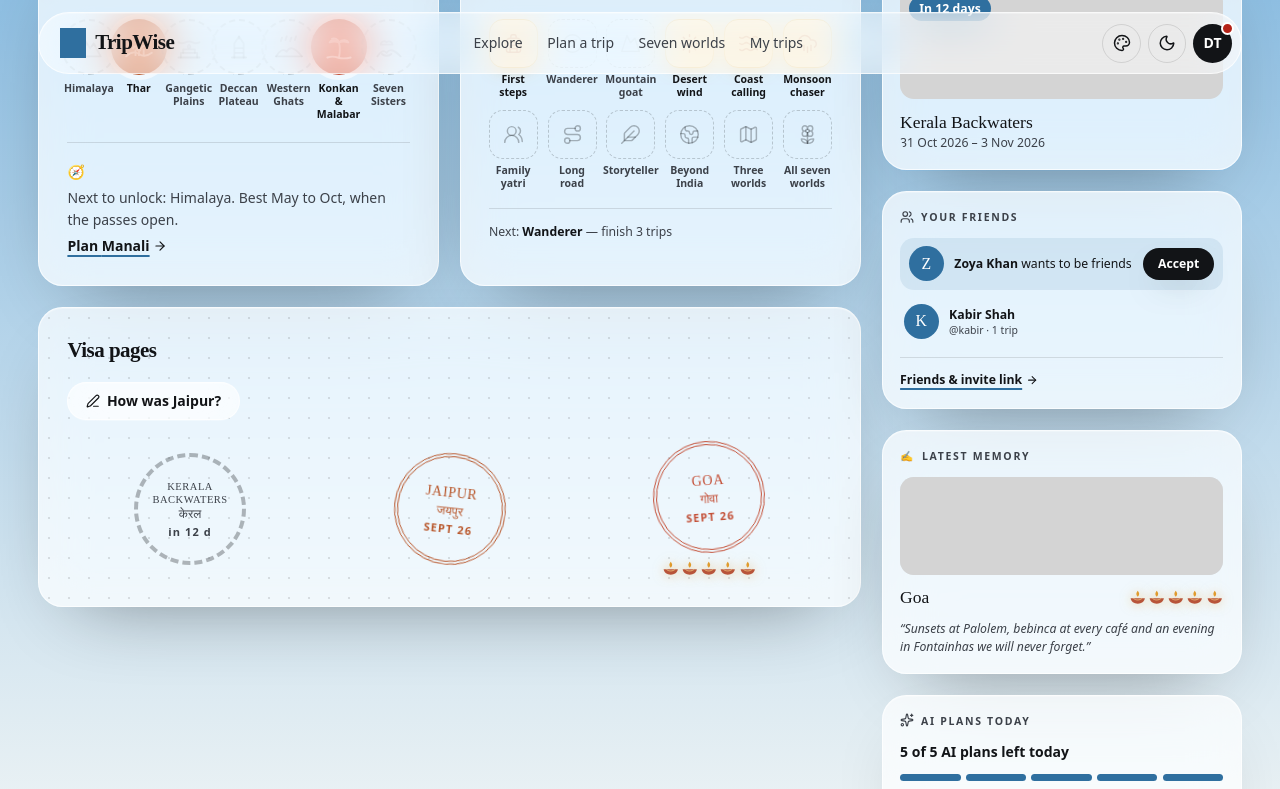
Test: PassportPage › stamps finished trips, shows the upcoming one, and opens a journal from the prompt
(page scrolled)
Expected: the button with aria-label "Goa journal" is shown, [653,441,765,553]
Expected: the link "Kerala Backwaters केरल in 12 d" is shown, [134,454,246,566]
Click the button "How was Jaipur?" at coordinates (154, 401), box [67,382,240,420]
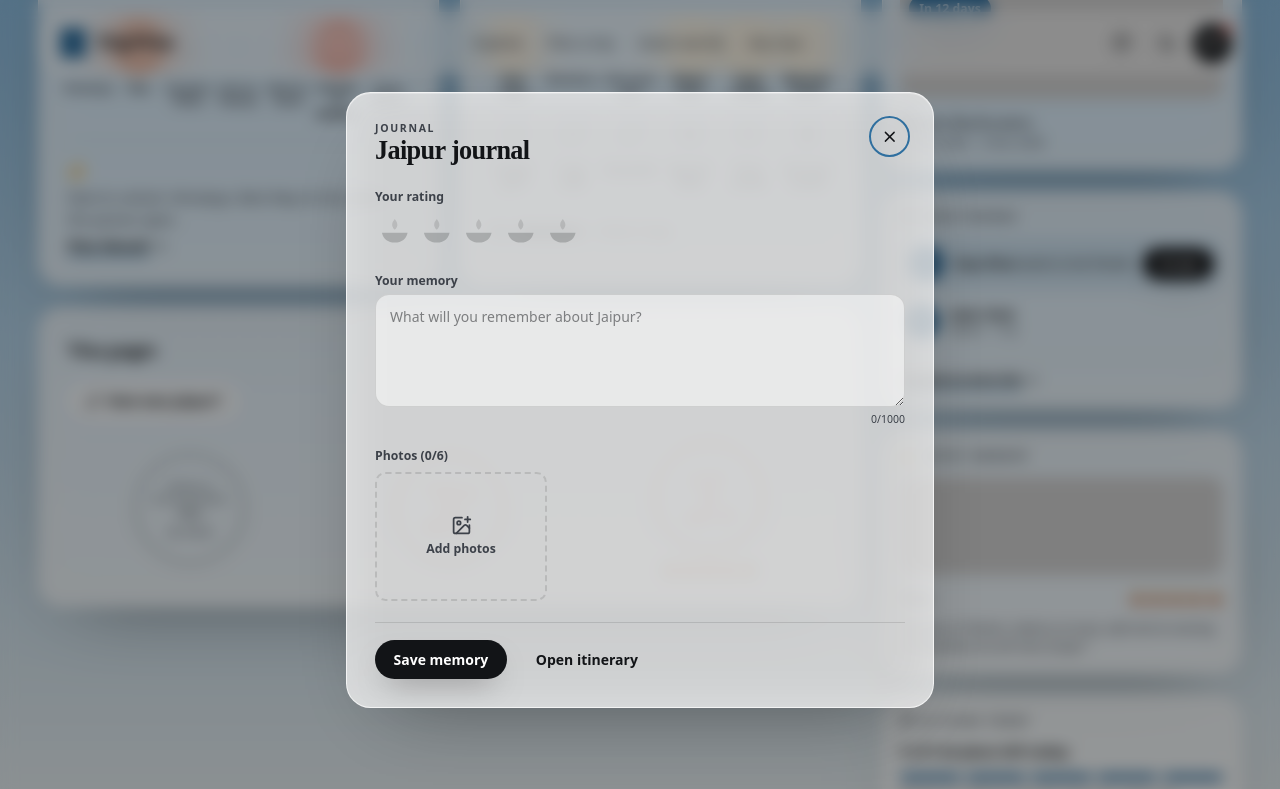
Click the radio button named "4 diyas" at coordinates (520, 231), box [504,216,536,247]
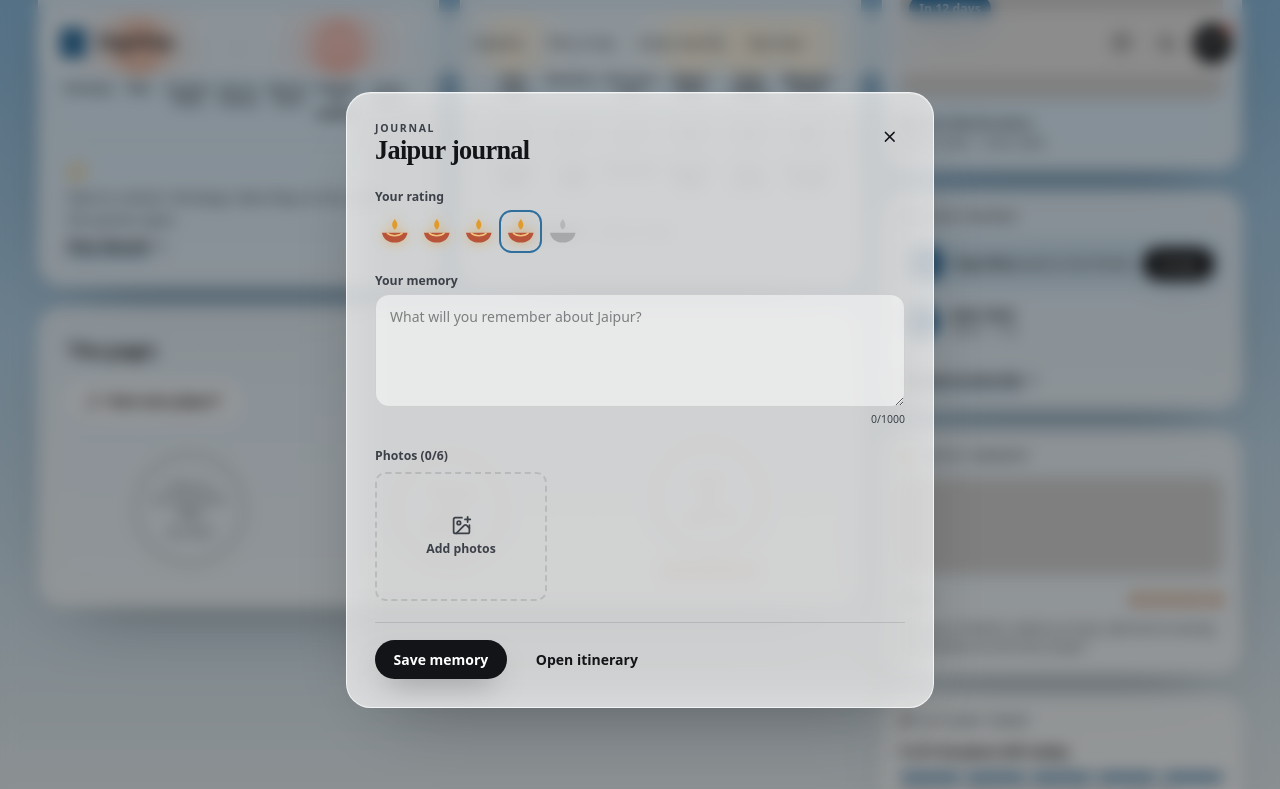
Type "Lassi at Lassiwala, sunset at Nahargarh." into the text box labelled "Your memory" at coordinates (640, 351), box [375,294,905,407]
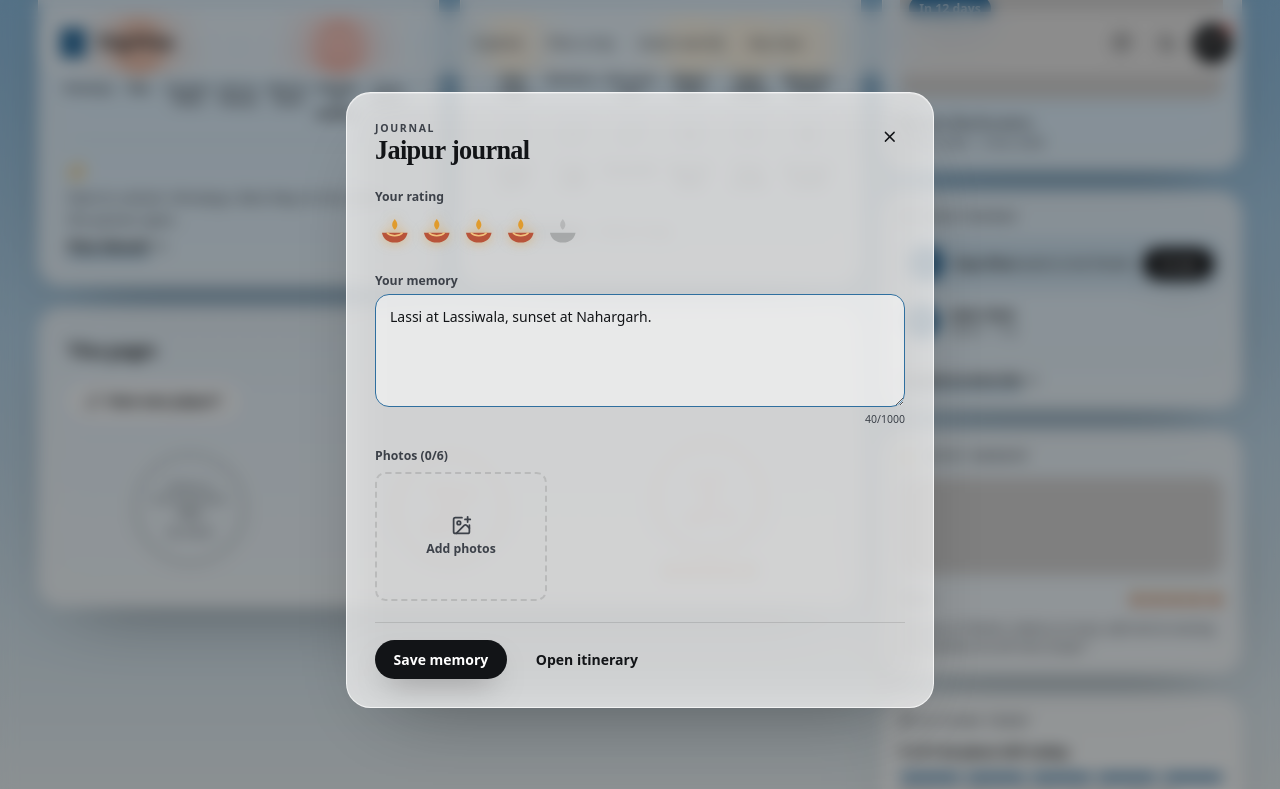
Click the button "Save memory" at coordinates (441, 660), box [375,640,507,679]
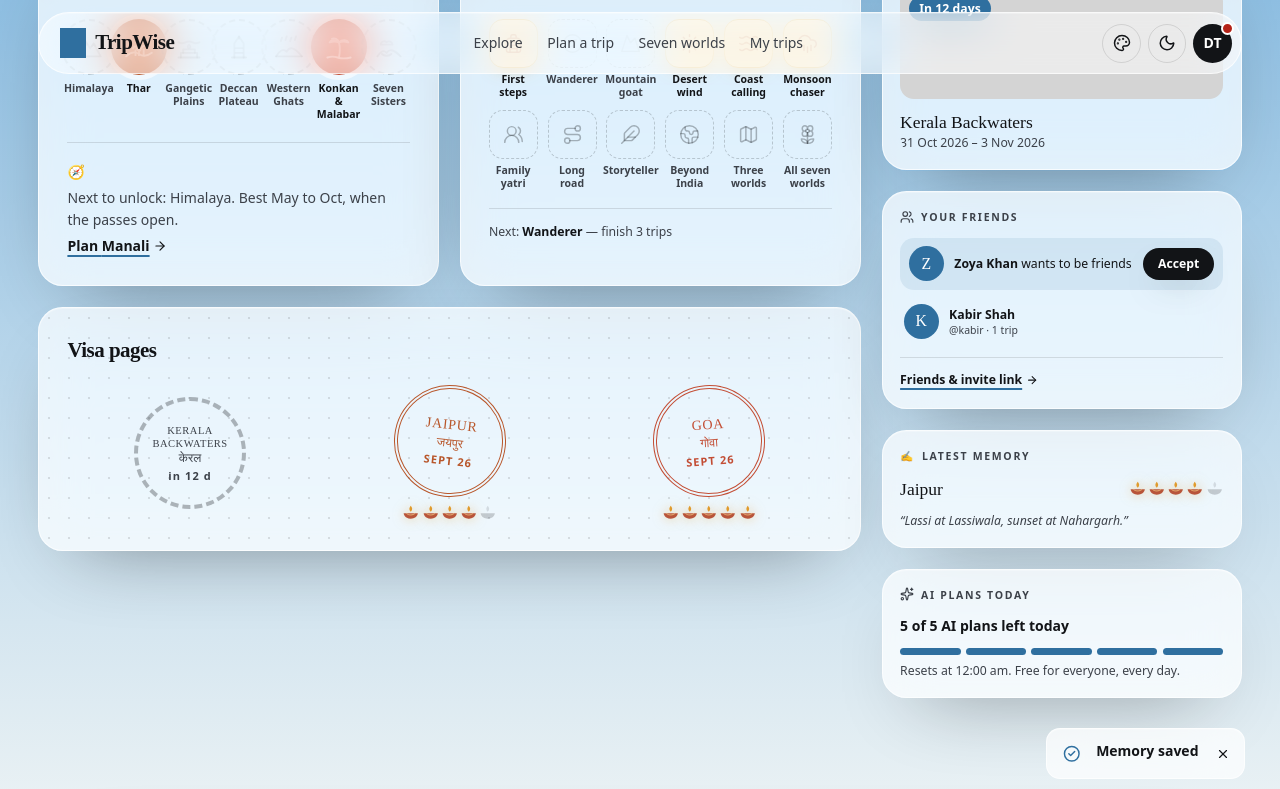
Result: the text "Memory saved" is shown at [1096,740,1198,762]
Result: the button with aria-label "Jaipur journal, 4 diyas" is shown at [394,385,506,497]
